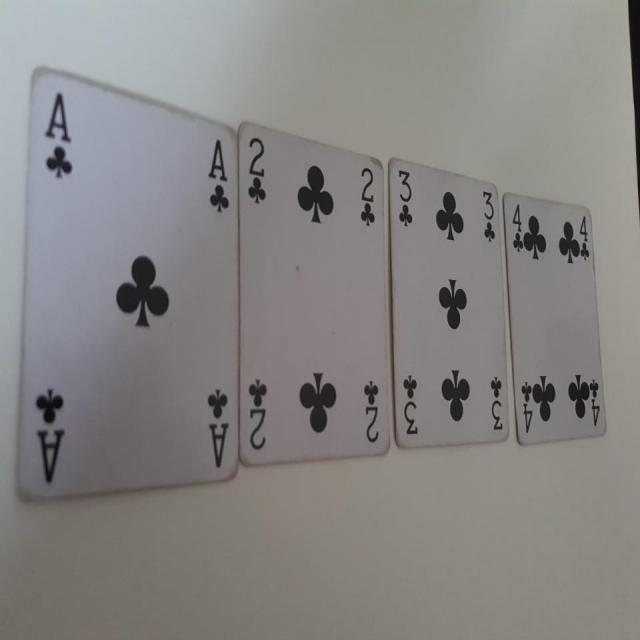2 Trefoils: (237, 121, 393, 468)
3 Trefoils: (387, 157, 510, 450)
4 Trefoils: (501, 189, 610, 447)
A Trefoils: (14, 66, 239, 493)
